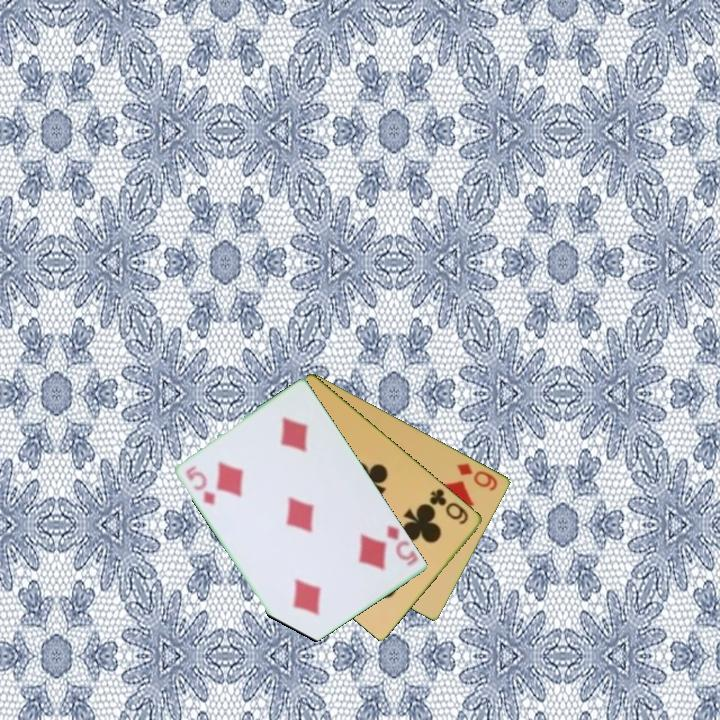5d: (383, 521, 421, 569), (182, 462, 219, 509)
6c: (426, 485, 472, 527)
6d: (454, 459, 501, 494)
